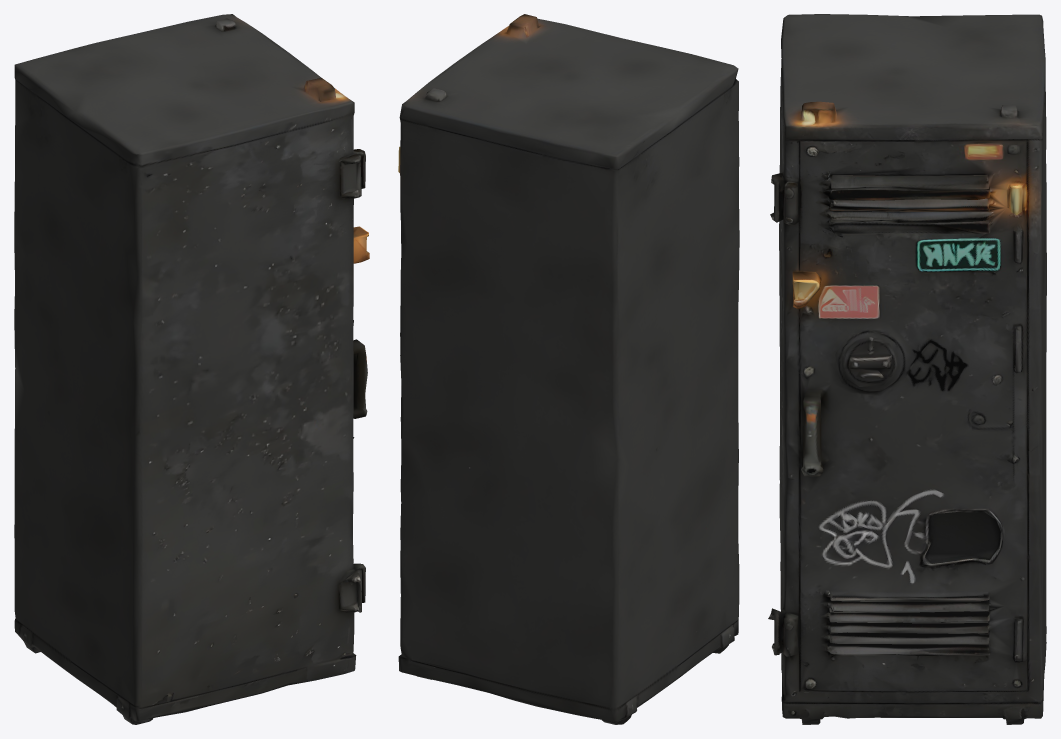
Rendered from 10_utility_cabinet.glb.
3 views of the same model, side by side, from view 1: azimuth 30°, elevation 25°; view 2: azimuth 150°, elevation 25°; view 3: azimuth 270°, elevation 25° (orthographic). The views are drawn at different scales.
Visible parts, largest first — view 1: tripo_node_79c20750-5f2b-4e8f-bf11-b39338c883f4; view 2: tripo_node_79c20750-5f2b-4e8f-bf11-b39338c883f4; view 3: tripo_node_79c20750-5f2b-4e8f-bf11-b39338c883f4.
Boxes of the visible parts, x1=… form: tripo_node_79c20750-5f2b-4e8f-bf11-b39338c883f4: x1=14, y1=14, x2=369, y2=724; tripo_node_79c20750-5f2b-4e8f-bf11-b39338c883f4: x1=398, y1=14, x2=739, y2=724; tripo_node_79c20750-5f2b-4e8f-bf11-b39338c883f4: x1=768, y1=14, x2=1046, y2=724.
Bounding box in the file's own units: 0.4345 × 1 × 0.4114.
Materials: 1 (1 with a texture image).
